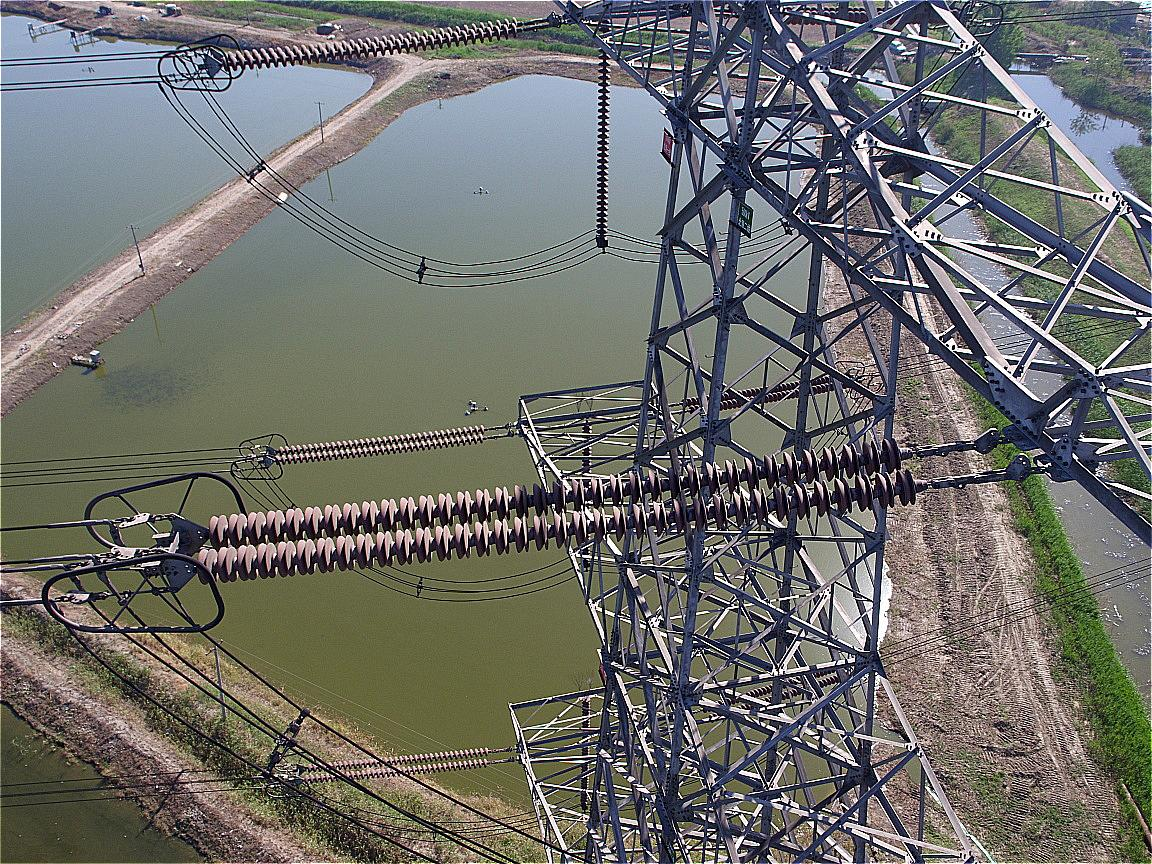insultor1: (224, 15, 519, 71), (275, 424, 488, 467), (302, 743, 490, 785)
insultor2: (196, 435, 916, 584)
